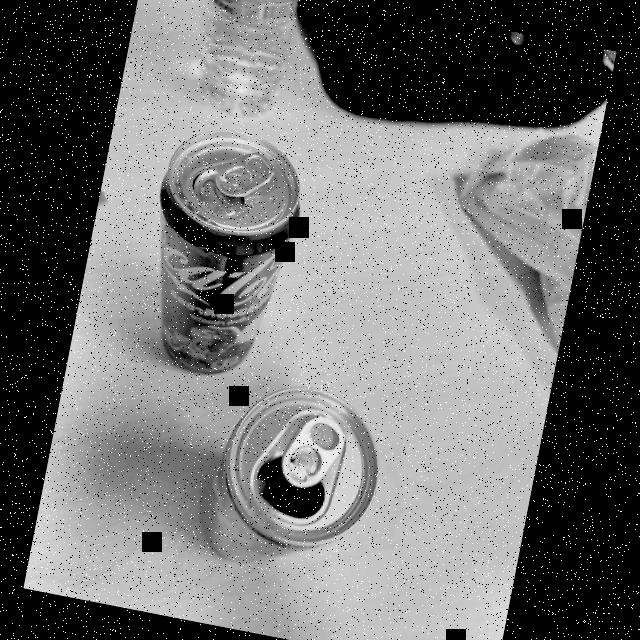can: (118, 108, 322, 387), (175, 360, 398, 595)
